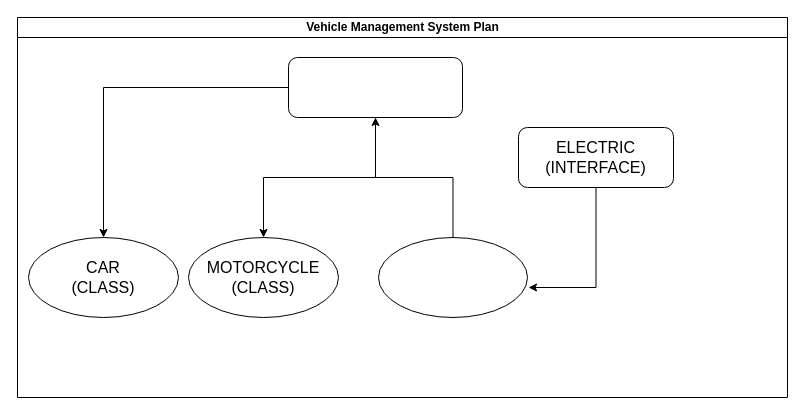
The diagram is 805 pixels wide and 415 high, and some of its shapes have lost their labels. Each missing label, with the centre of its shape:
"ELECTRIC CAR (CLASS)" goes at point 453,277.
"VEHICLE (ABSTRACT CLASS)" goes at point 375,87.
